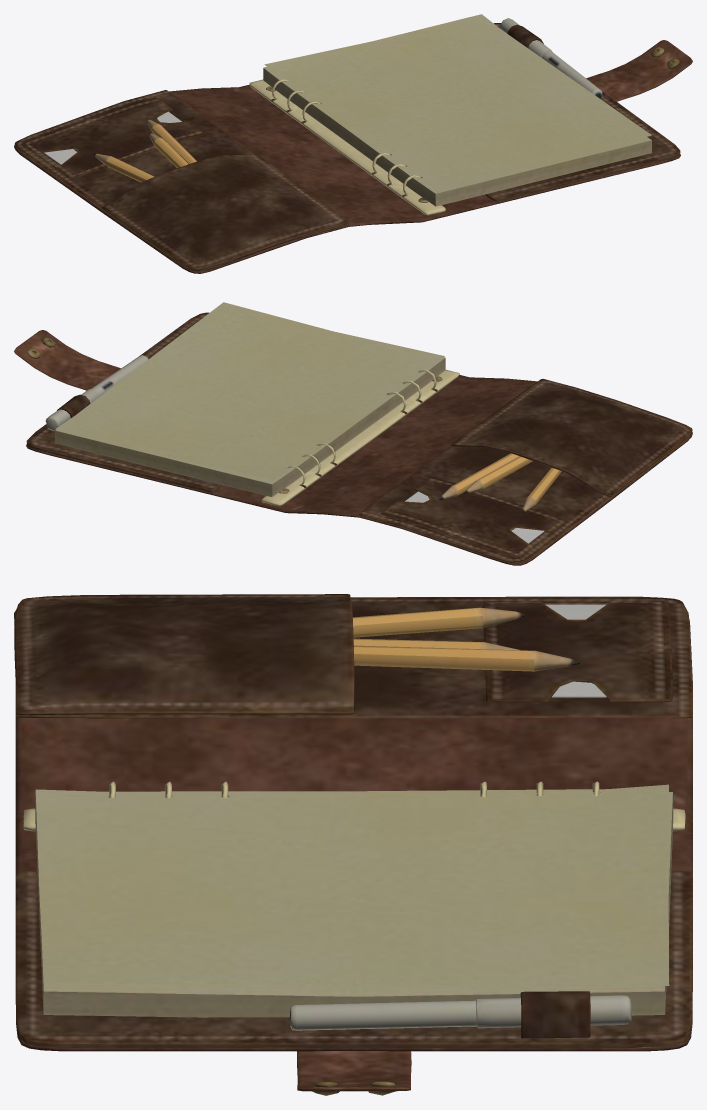
The model's file is binder_notebook__open.glb.
3 renders of one model, top to bottom at view 1: azimuth 30°, elevation 25°; view 2: azimuth 150°, elevation 25°; view 3: azimuth 270°, elevation 25°, orthographic. The views are drawn at different scales.
Visible parts, largest first — view 1: binder_notebook; view 2: binder_notebook; view 3: binder_notebook.
Part boxes in pixels (x1,y1,x2,y2): binder_notebook: (14, 14, 692, 273); binder_notebook: (14, 302, 692, 565); binder_notebook: (14, 594, 692, 1095).
Size of the model in its own units: 0.3652 by 0.0177 by 0.1997.
1 material, 1 textured.
